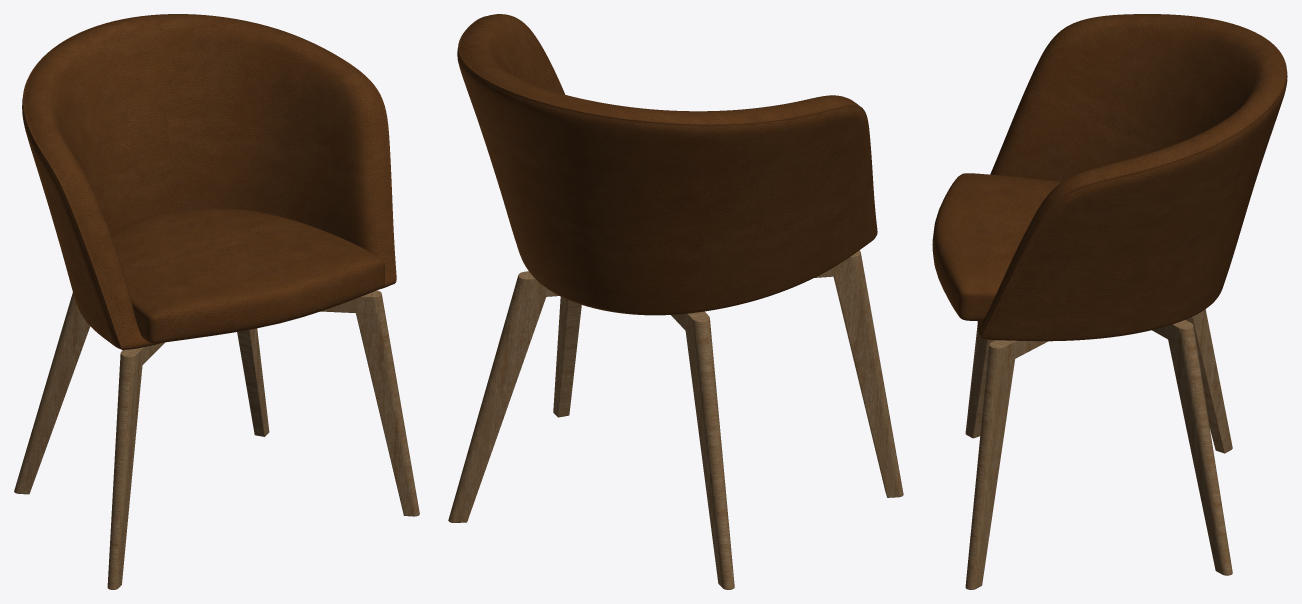
The model's file is chair.glb.
3 views of the same model, side by side, from view 1: azimuth 30°, elevation 25°; view 2: azimuth 150°, elevation 25°; view 3: azimuth 270°, elevation 25° (orthographic). The views are drawn at different scales.
Parts seen in each view (by area): view 1: chair; view 2: chair; view 3: chair.
Part boxes in pixels (x1=…): chair: x1=14, y1=14, x2=419, y2=589; chair: x1=448, y1=14, x2=903, y2=589; chair: x1=932, y1=14, x2=1287, y2=589.
Size of the model in its own units: 0.8063 by 0.9952 by 0.7235.
Materials: 2 (2 with a texture image).
